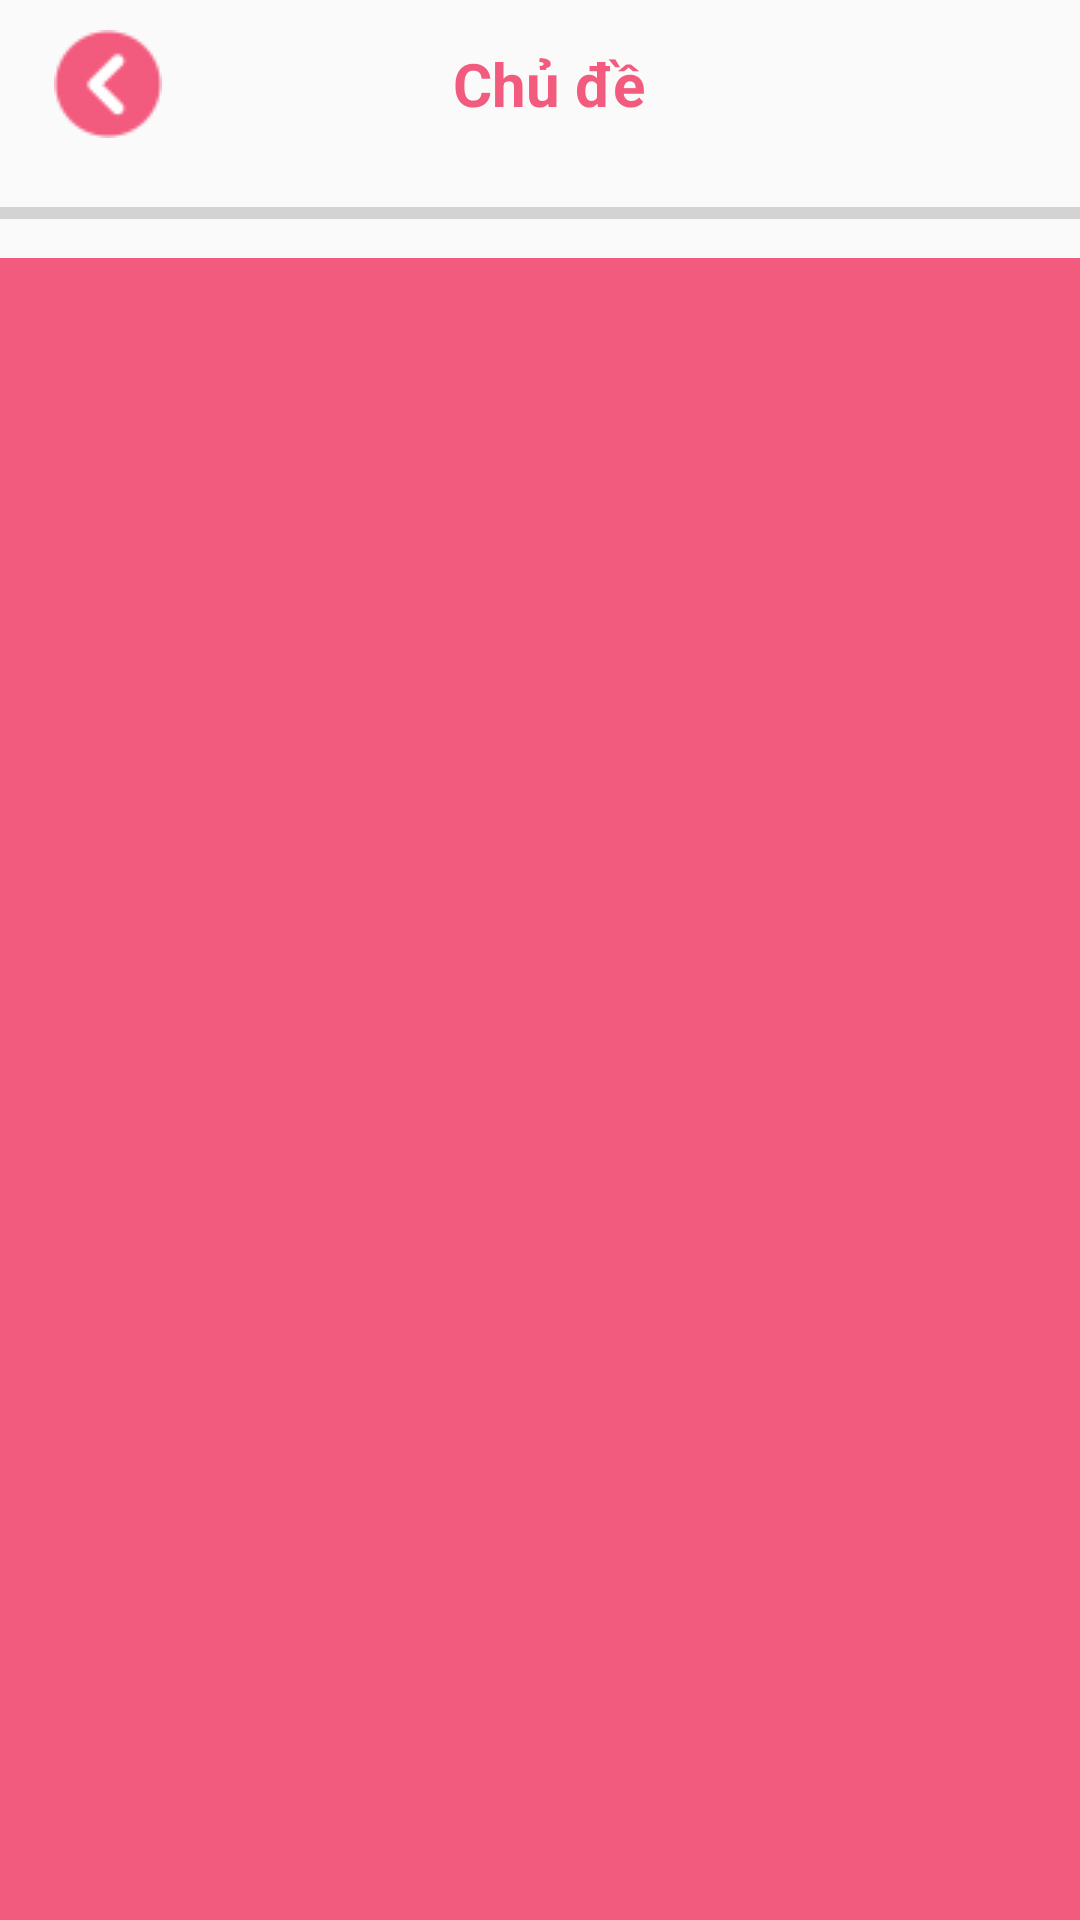

Named icons in this screenshot (1080w x 1920h) and their centers, point (x, y):
back: point (108, 84)
